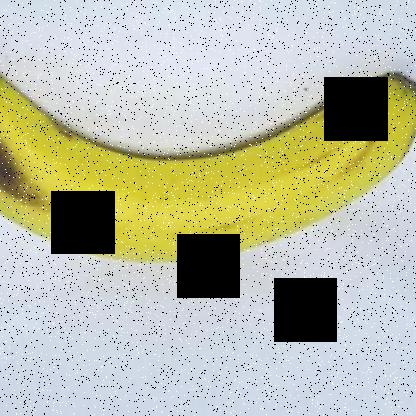freshripe: (1, 14, 415, 276)
